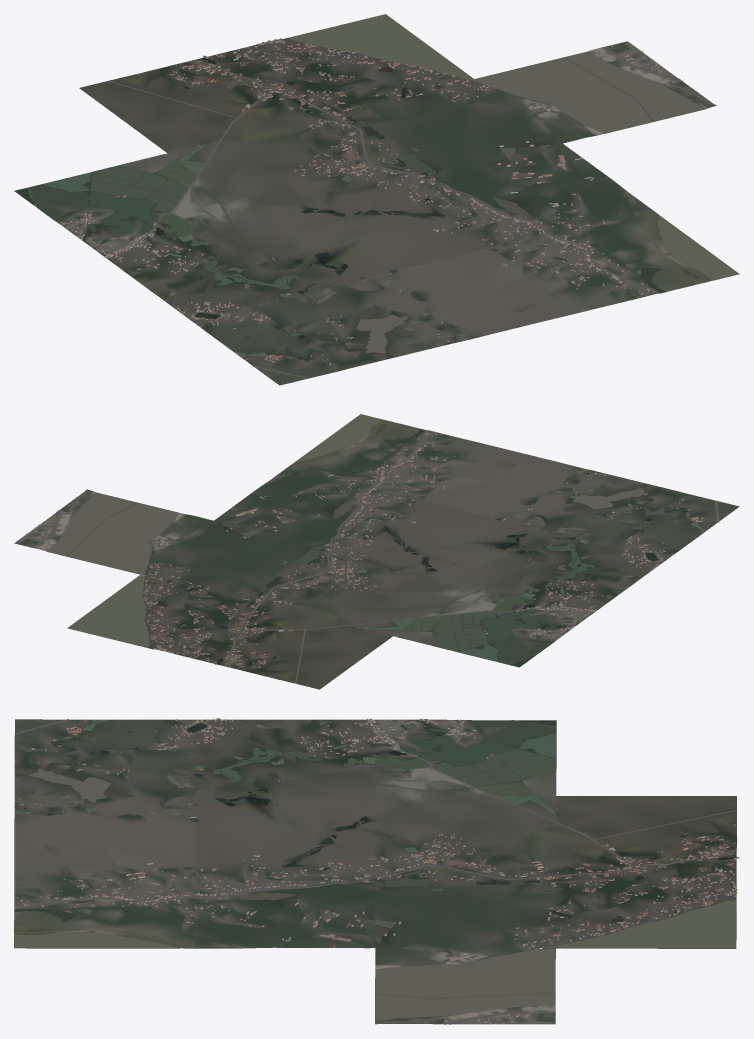
The picture shows the model from 3 angles, top to bottom: view 1: azimuth 30°, elevation 25°; view 2: azimuth 150°, elevation 25°; view 3: azimuth 270°, elevation 25°; orthographic projection. The views are drawn at different scales.
Parts seen in each view (by area): view 1: ground, water, buildings, roads; view 2: ground, water, buildings, roads; view 3: ground, water, buildings, roads.
Boxes of the visible parts, x1,y1,x2,y2 form: ground: [14, 38, 738, 385]; water: [14, 14, 739, 365]; buildings: [60, 38, 663, 365]; roads: [79, 46, 716, 378]; ground: [14, 419, 739, 689]; water: [47, 414, 708, 677]; buildings: [26, 433, 710, 669]; roads: [32, 431, 719, 683]; ground: [14, 719, 736, 1024]; water: [14, 719, 736, 1019]; buildings: [16, 718, 739, 1024]; roads: [14, 719, 737, 1024].
Size of the model in its own units: 5618 by 25.45 by 5635.
